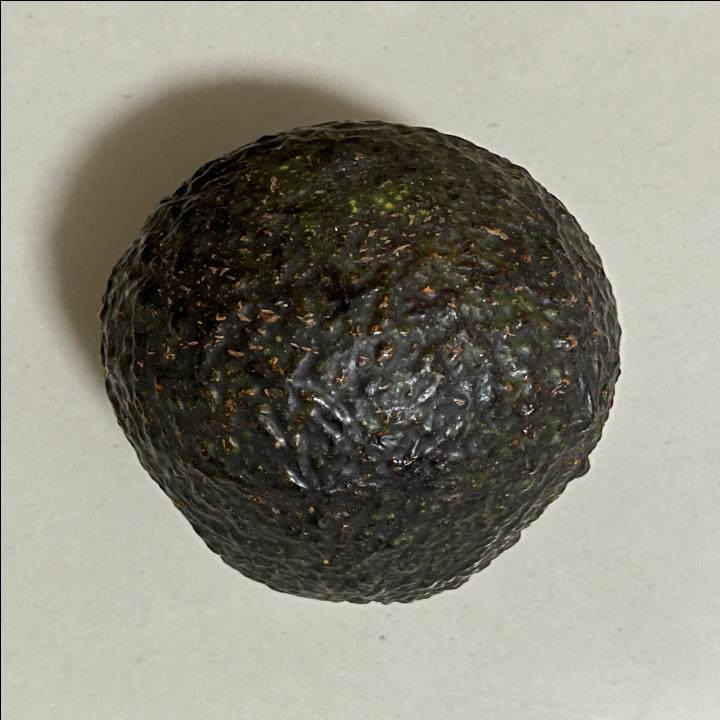Level1: (86, 110, 630, 616)
